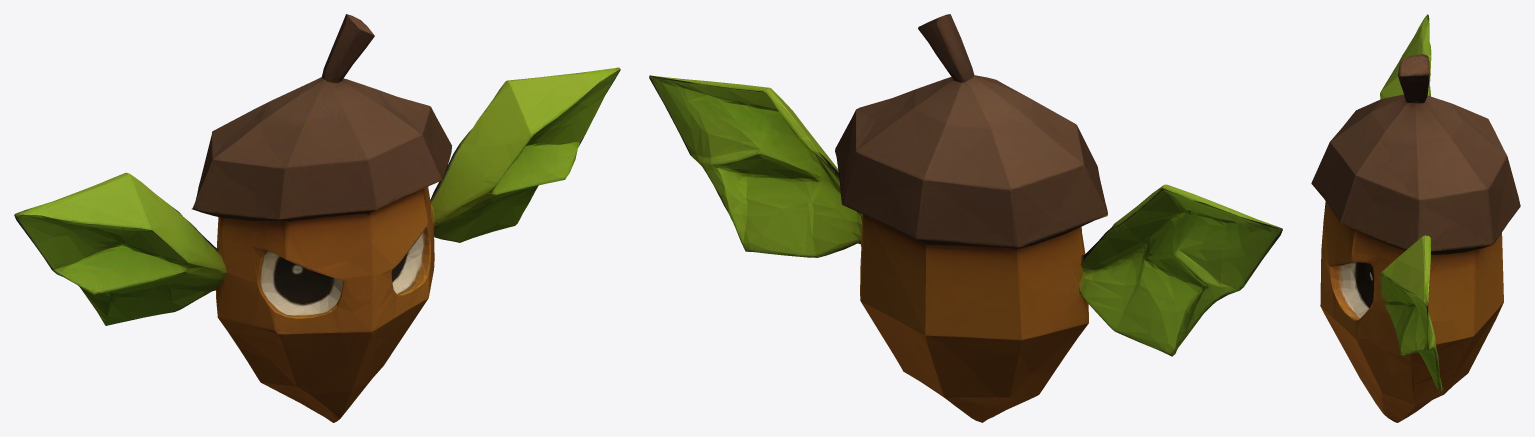
File: monstre_gland_volant.glb
3 renders of one model, left to right at view 1: azimuth 30°, elevation 25°; view 2: azimuth 150°, elevation 25°; view 3: azimuth 270°, elevation 25°, orthographic. The views are drawn at different scales.
Visible parts, largest first — view 1: geometry_0; view 2: geometry_0; view 3: geometry_0.
Part boxes in pixels (left/top/right/bottom): geometry_0: left=14, top=14, right=620, bottom=422; geometry_0: left=649, top=14, right=1282, bottom=422; geometry_0: left=1311, top=14, right=1520, bottom=422.
Bounding box in the file's own units: 1 × 0.6176 × 0.3071.
Materials: 1 (1 with a texture image).
